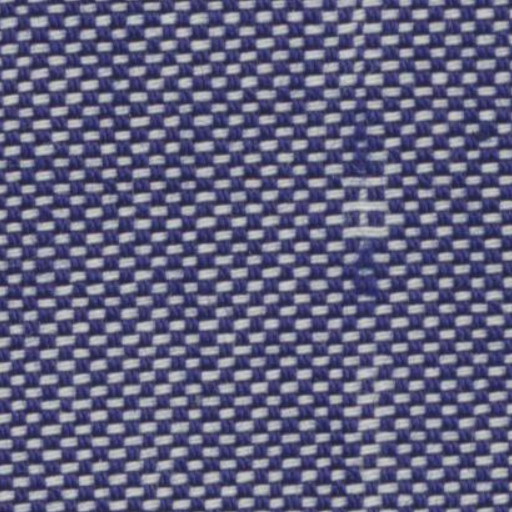TuoSha: (312, 22, 420, 498)
